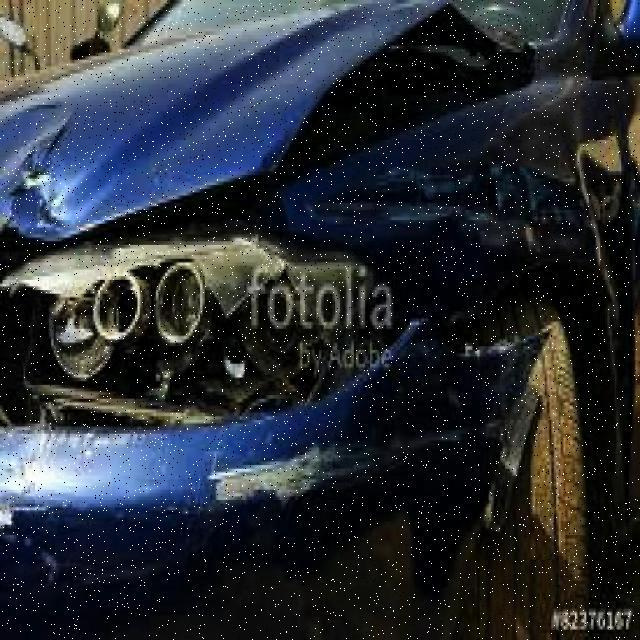car damage: (2, 2, 614, 630)
